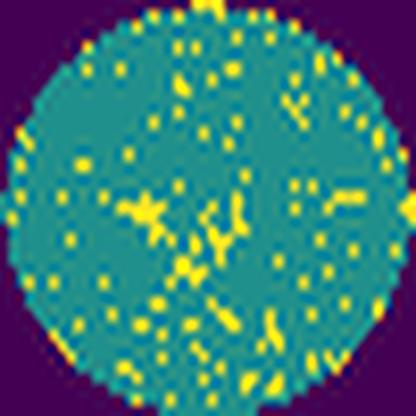Loc: (164, 187, 255, 290), (117, 191, 181, 246)
